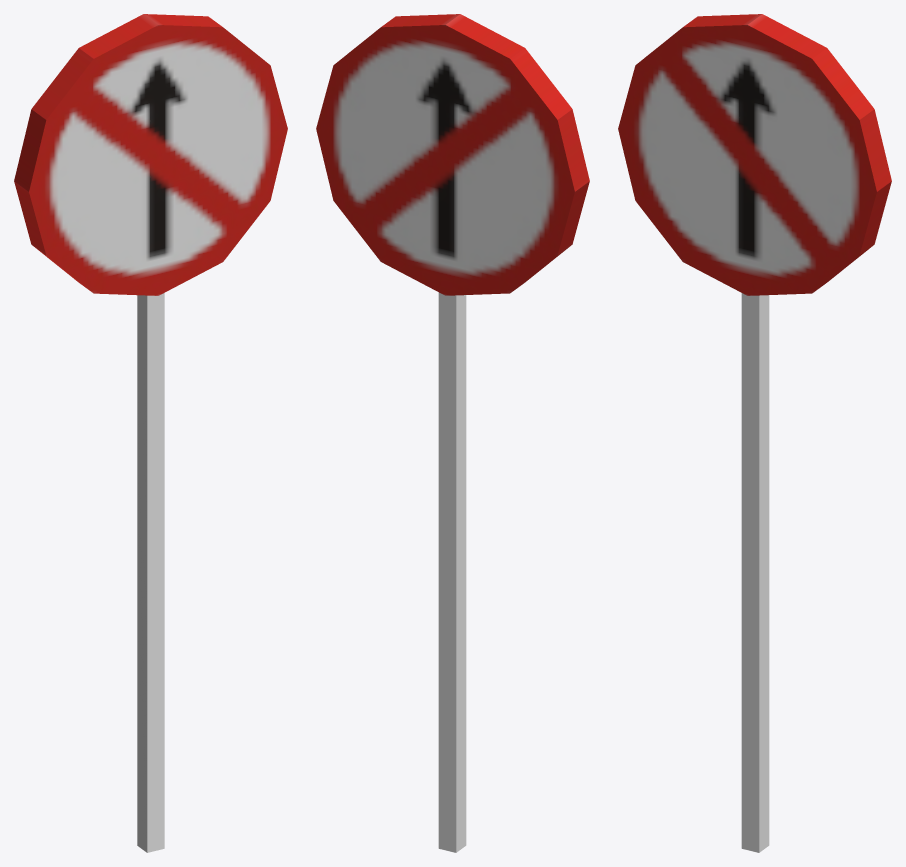
Rendered from PlacaProibidoFrente.fbx.
3 renders of one model, left to right at view 1: azimuth 30°, elevation 25°; view 2: azimuth 150°, elevation 25°; view 3: azimuth 330°, elevation 25°, orthographic.
Parts seen in each view (by area): view 1: Placa-Proibido-Frente-10; view 2: Placa-Proibido-Frente-10; view 3: Placa-Proibido-Frente-10.
Boxes of the visible parts, x1,y1,x2,y2 form: Placa-Proibido-Frente-10: [14, 14, 287, 852]; Placa-Proibido-Frente-10: [316, 14, 589, 852]; Placa-Proibido-Frente-10: [618, 14, 891, 852].
Size of the model in its own units: 0.7576 by 2.31 by 0.0758.
